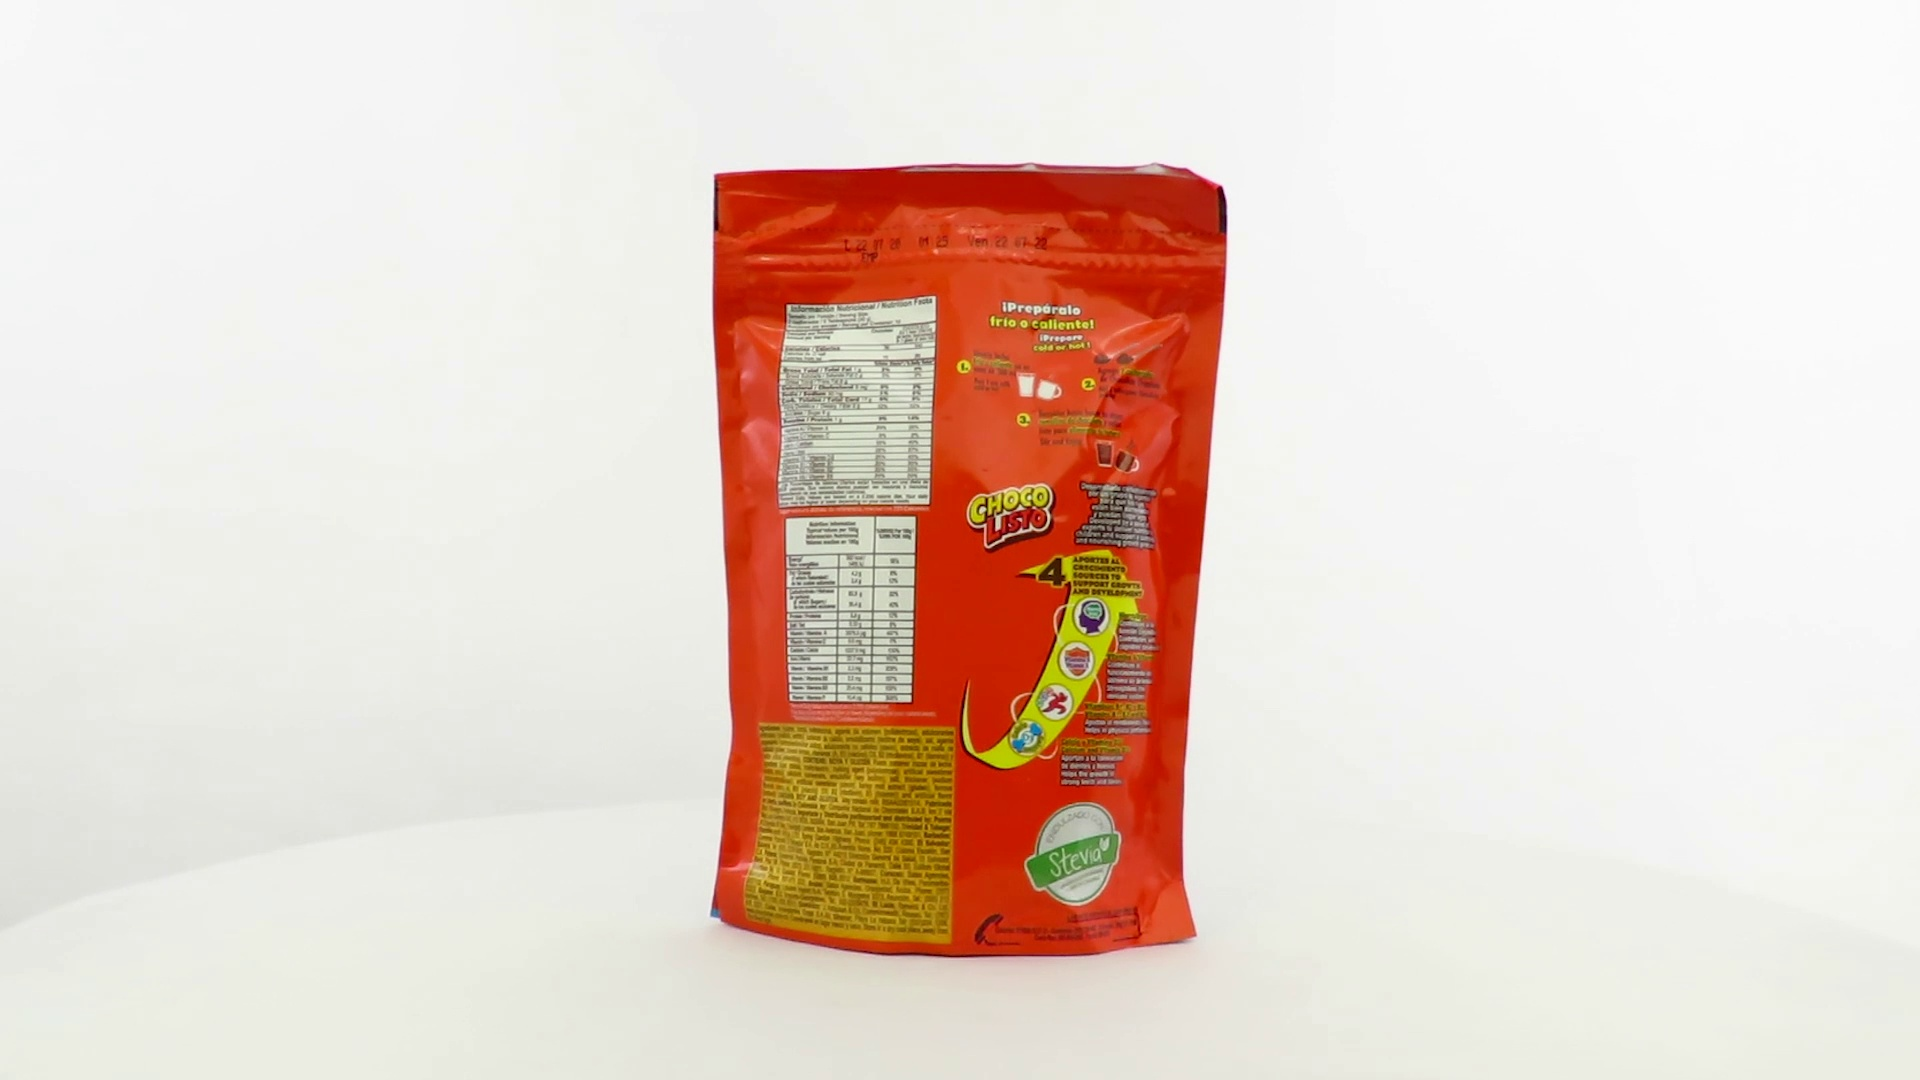COL0170104DYP20000: (705, 157, 1233, 964)
